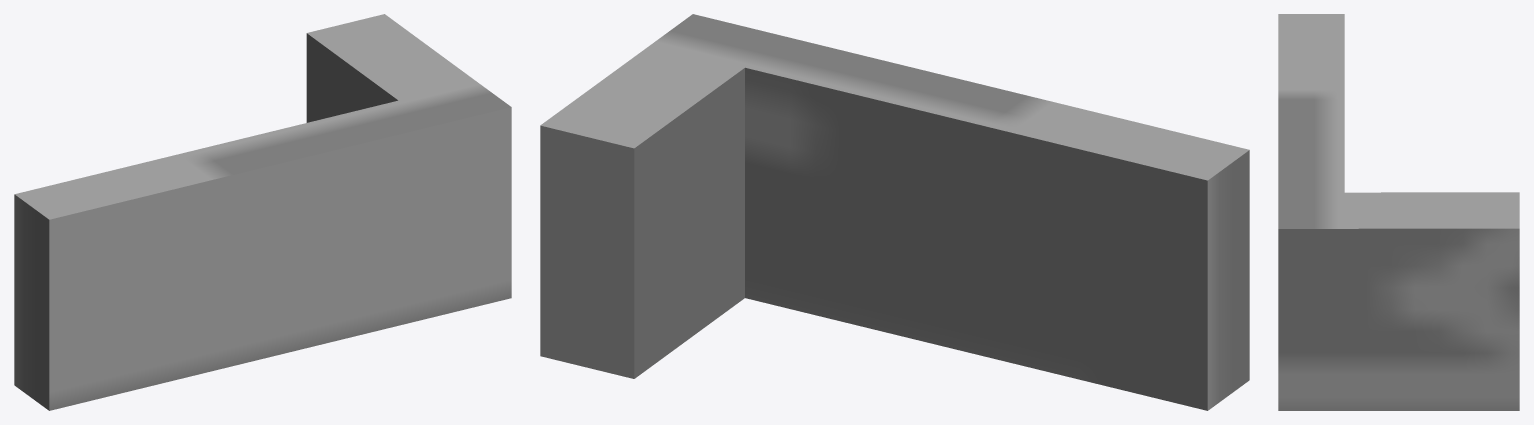
Rendered from prop_BalconyPath.fbx.
The picture shows the model from 3 angles, left to right: view 1: azimuth 30°, elevation 25°; view 2: azimuth 150°, elevation 25°; view 3: azimuth 270°, elevation 25°; orthographic projection. The views are drawn at different scales.
Parts seen in each view (by area): view 1: prop_BalconyPath; view 2: prop_BalconyPath; view 3: prop_BalconyPath.
Boxes of the visible parts, <box> form: prop_BalconyPath: <box>14,14,511,410</box>; prop_BalconyPath: <box>540,14,1249,410</box>; prop_BalconyPath: <box>1278,14,1519,410</box>.
Size of the model in its own units: 1678 by 664 by 797.
